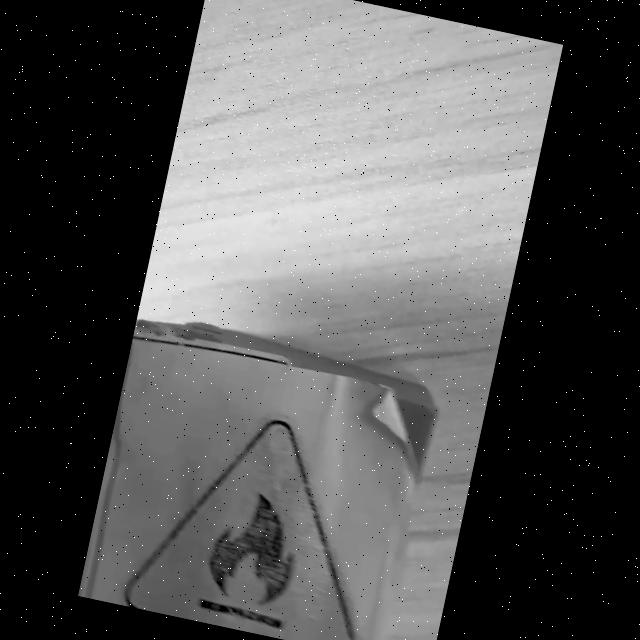Fire: (125, 421, 357, 640)
